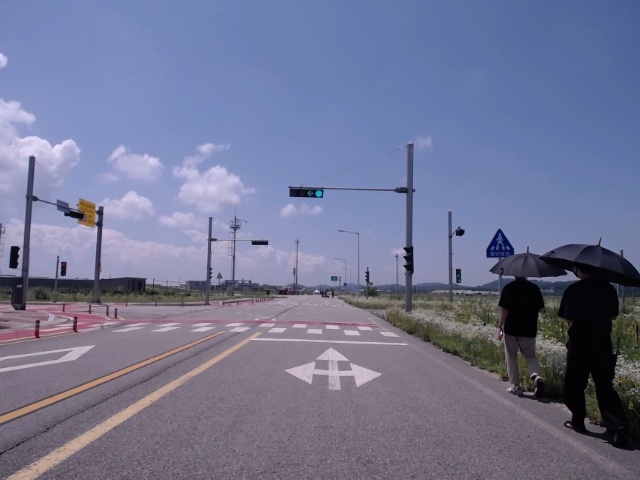all_green_4: (291, 184, 322, 198)
